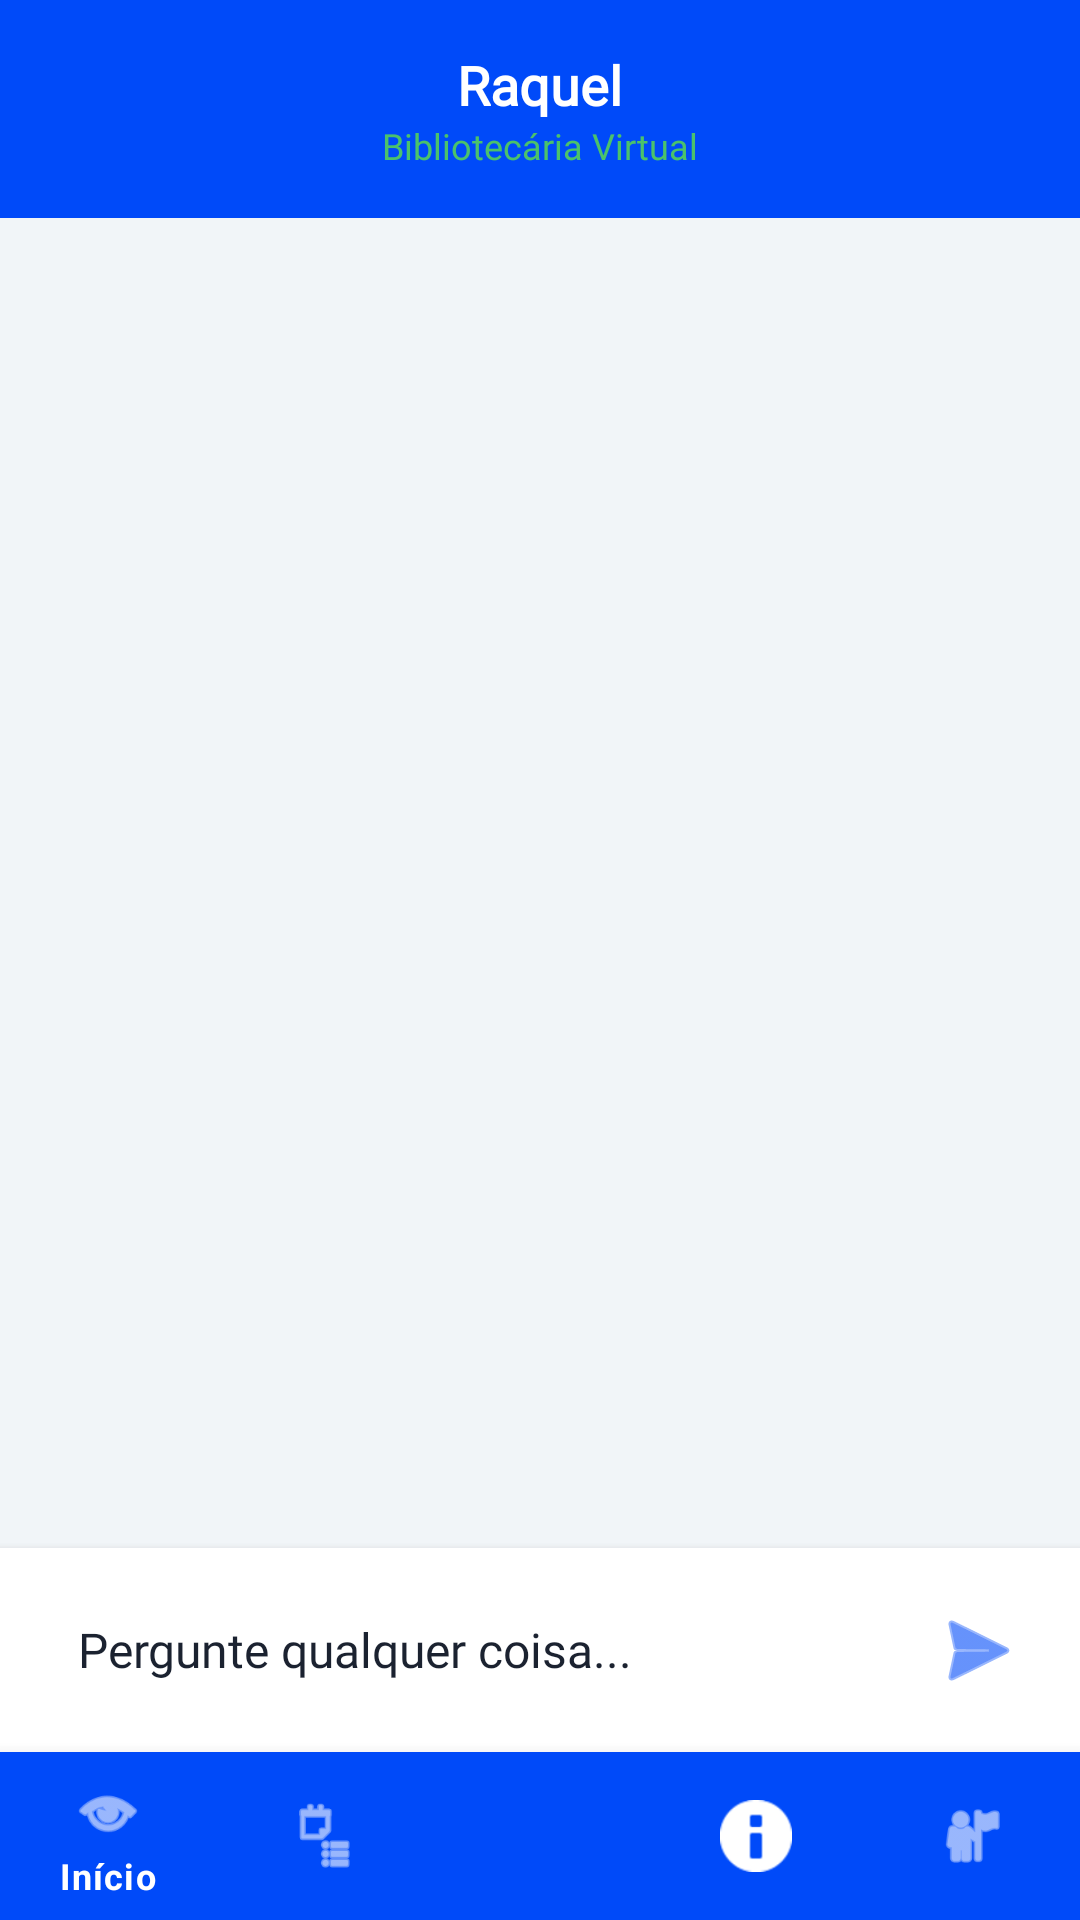

Screen size 1080 × 1920. Icon name, then its center in pixels as (x,y):
send: (979,1650)
